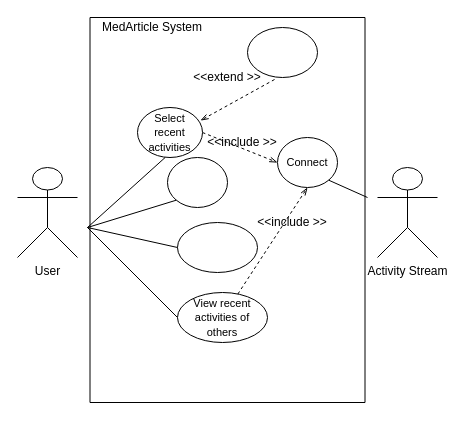
This 465x421 diagram has some shape labels left out. Each missing label, with the centre of its shape:
Click queries: point (217, 247)
Click tags: point (197, 182)
Display not found error: point (282, 52)
